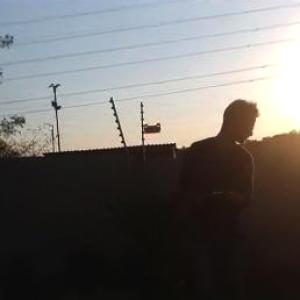follow: (171, 95, 265, 299)
